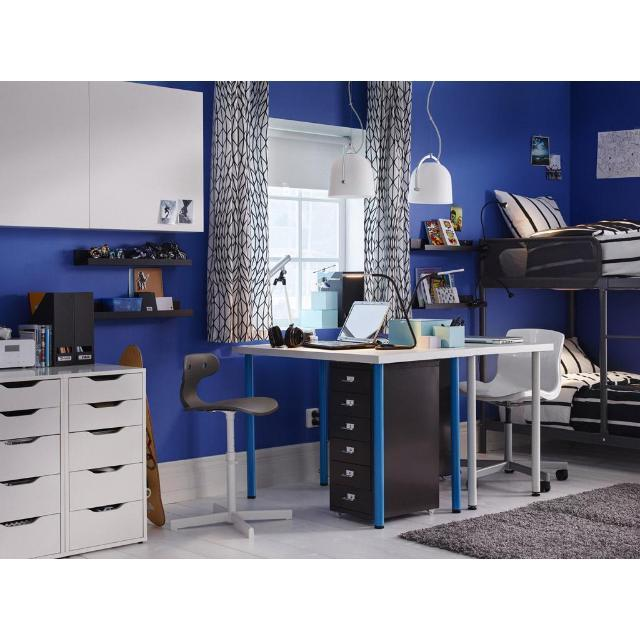bed: (480, 220, 640, 290), (541, 371, 601, 434), (608, 371, 640, 438)
chair: (170, 354, 292, 537), (476, 352, 531, 477), (508, 330, 565, 400), (541, 459, 569, 492)
curtain: (206, 81, 272, 343), (269, 135, 342, 189)
dresser: (0, 365, 148, 558)
light: (408, 81, 452, 205), (329, 152, 375, 198)
pillow: (495, 190, 566, 237), (560, 337, 600, 374)
rug: (401, 484, 640, 558)
shelf: (0, 81, 204, 232)
table: (232, 344, 552, 528)
wall-art: (596, 128, 640, 178), (531, 136, 550, 165), (546, 154, 562, 180)
